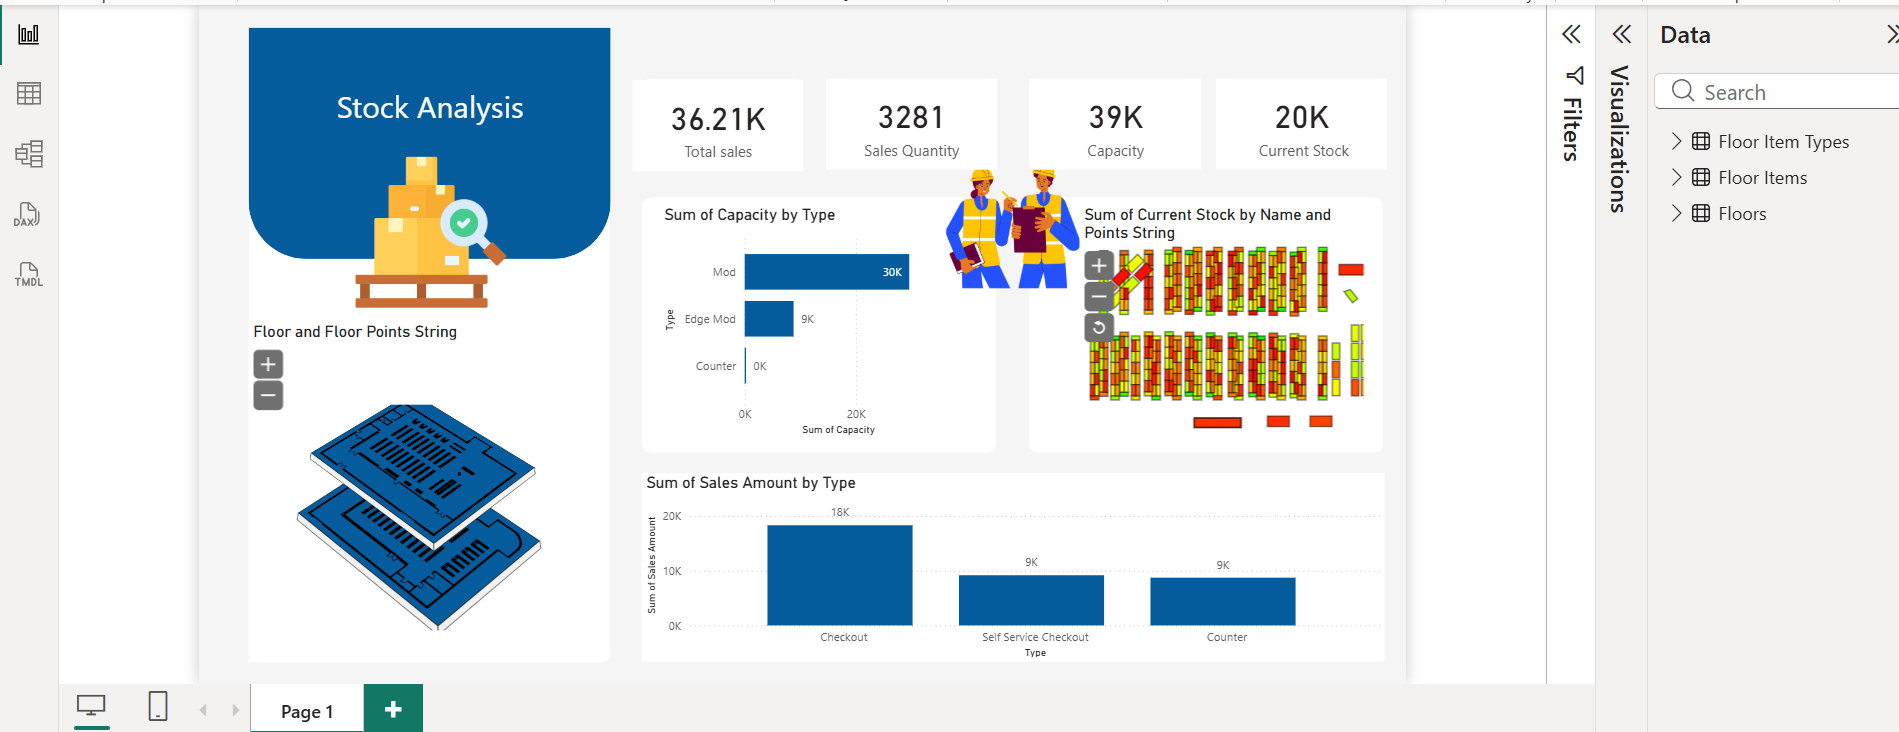

This screenshot's page, from the dashboard's own definition file:
{"tool":"powerbi","page":{"name":"Page 1","canvas":[1280,720],"ordinal":0},"visuals":[{"type":"shape","box":[53,23.7,384.2,673.7],"z":0},{"type":"shape","box":[468.7,78.5,171.2,95.8],"z":1000},{"type":"shape","box":[674.1,78.5,171.2,95.8],"z":2000},{"type":"shape","box":[879.5,78.5,171.2,95.8],"z":3000},{"type":"shape","box":[1084.9,78.5,171.2,95.8],"z":4000},{"type":"shape","box":[468.7,203.9,376.3,271.5],"z":5000},{"type":"shape","box":[879.9,203.9,376.3,271.5],"z":6000},{"type":"shape","box":[468.7,496.8,787.5,200.5],"z":7000},{"type":"shape","box":[53,23.7,384.2,245.6],"z":8000},{"type":"image","box":[160,146.5,170.1,189.3],"z":9000},{"type":"textbox","box":[95.8,78.9,299.7,59.7],"z":10000},{"type":"image","box":[778.5,138.6,170.1,189.3],"z":11000},{"type":"card","fields":{"Values":["Sum(Floor Items.Sales Amount)"]},"box":[459.2,79.4,181.4,96.4],"z":12000},{"type":"card","fields":{"Values":["Sum(Floor Items.Sales Quantity)"]},"box":[665.2,77.5,181.4,96.4],"z":13000},{"type":"card","fields":{"Values":["Sum(Floor Items.Current Stock)"]},"box":[1079.1,77.5,181.4,96.4],"z":14000},{"type":"card","fields":{"Values":["Sum(Floor Items.Capacity)"]},"box":[880.6,77.5,181.4,96.4],"z":15000},{"type":"barChart","fields":{"Category":["Floor Item Types.Type"],"Y":["Sum(Floor Items.Capacity)"]},"box":[487.6,211.7,304.3,249.5],"z":16000},{"type":"columnChart","fields":{"Category":["Floor Item Types.Type"],"Y":["Sum(Floor Items.Sales Amount)"]},"box":[468.7,497,788,200.3],"z":17000},{"type":"FloorPlanVisualBySimpsonAssociatesEA727C8881A74751956CB5CBC7","fields":{"floorNames":["Floors.Floor"],"floorPoints":["Floors.Floor Points String"]},"box":[52.9,336.4,362.8,360.9],"z":18000},{"type":"FloorPlanVisualBySimpsonAssociatesEA727C8881A74751956CB5CBC7","fields":{"planItemNames":["Floor Items.Name"],"planItemPoints":["Floor Items.Points String"],"value":["Sum(Floor Items.Current Stock)"]},"box":[933.6,211.7,306.1,249.5],"z":18001}]}

Visuals, with their boxes on the page's 1280x720 design canvas (x1, y1, x2, y2). These are canvas units, not pixel positions in the 1899x732 screenshot, which may show the page scaled, cropped or inside an application window:
shape: locate(53, 24, 437, 697)
shape: locate(469, 78, 640, 174)
shape: locate(674, 78, 845, 174)
shape: locate(880, 78, 1051, 174)
shape: locate(1085, 78, 1256, 174)
shape: locate(469, 204, 845, 475)
shape: locate(880, 204, 1256, 475)
shape: locate(469, 497, 1256, 697)
shape: locate(53, 24, 437, 269)
image: locate(160, 146, 330, 336)
textbox: locate(96, 79, 396, 139)
image: locate(778, 139, 949, 328)
card - Sum(Floor Items.Sales Amount): locate(459, 79, 641, 176)
card - Sum(Floor Items.Sales Quantity): locate(665, 78, 847, 174)
card - Sum(Floor Items.Current Stock): locate(1079, 78, 1260, 174)
card - Sum(Floor Items.Capacity): locate(881, 78, 1062, 174)
barChart - Floor Item Types.Type x Sum(Floor Items.Capacity): locate(488, 212, 792, 461)
columnChart - Floor Item Types.Type x Sum(Floor Items.Sales Amount): locate(469, 497, 1257, 697)
FloorPlanVisualBySimpsonAssociatesEA727C8881A74751956CB5CBC7 - Floors.Floor x Floors.Floor Points String: locate(53, 336, 416, 697)
FloorPlanVisualBySimpsonAssociatesEA727C8881A74751956CB5CBC7 - Floor Items.Name x Floor Items.Points String: locate(934, 212, 1240, 461)
